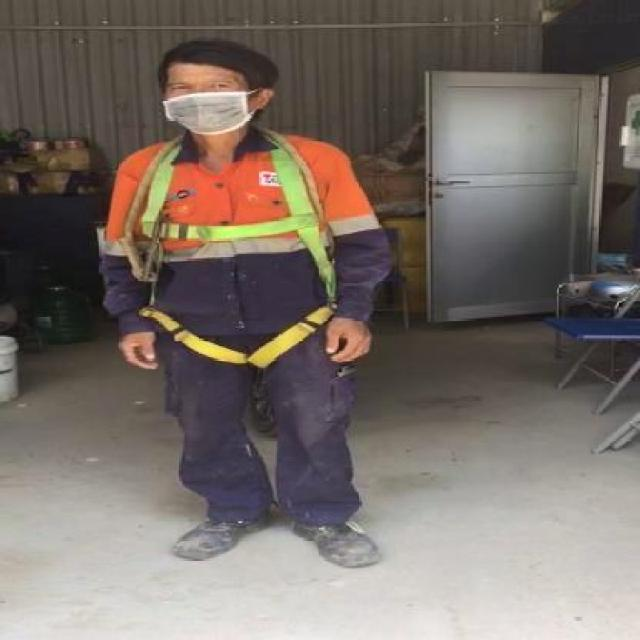face_mask: (165, 68, 248, 138)
hand_noglove: (113, 318, 167, 378), (322, 308, 376, 362)
head_nohelmet: (156, 34, 273, 81)
person: (94, 38, 381, 590)
shoes: (284, 498, 391, 578), (166, 499, 277, 568)
